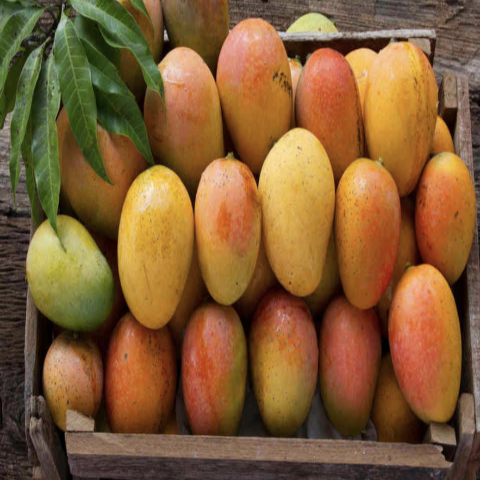mango: (252, 119, 343, 312), (355, 41, 452, 218), (113, 153, 198, 335), (382, 248, 467, 424), (206, 21, 296, 175), (330, 152, 416, 311), (181, 281, 254, 465), (16, 214, 109, 344), (186, 144, 263, 298), (310, 280, 382, 428), (410, 149, 478, 298)
